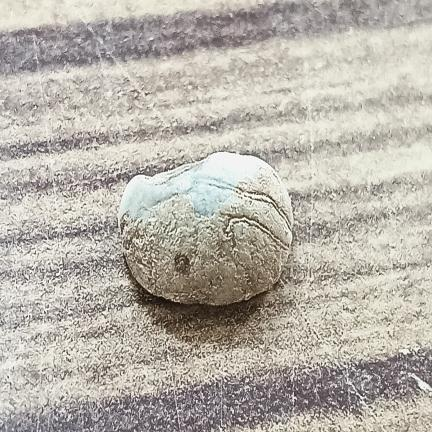broken: (118, 152, 293, 305)
